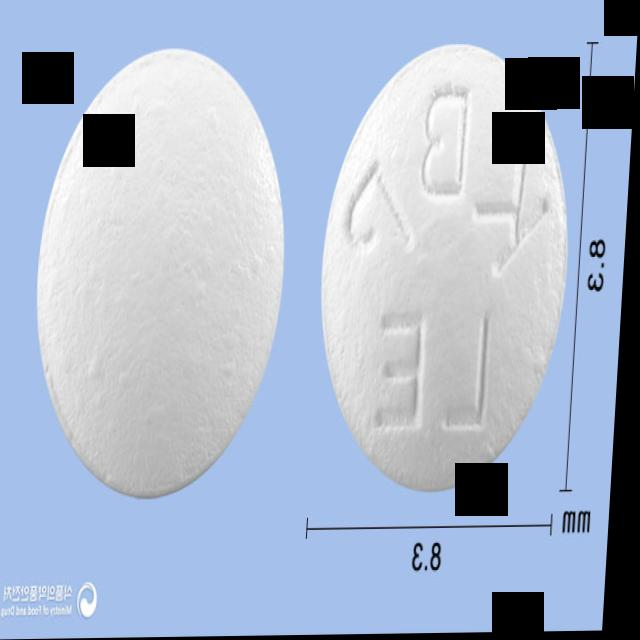Neobit Tab: (30, 46, 298, 504), (317, 42, 581, 493)
